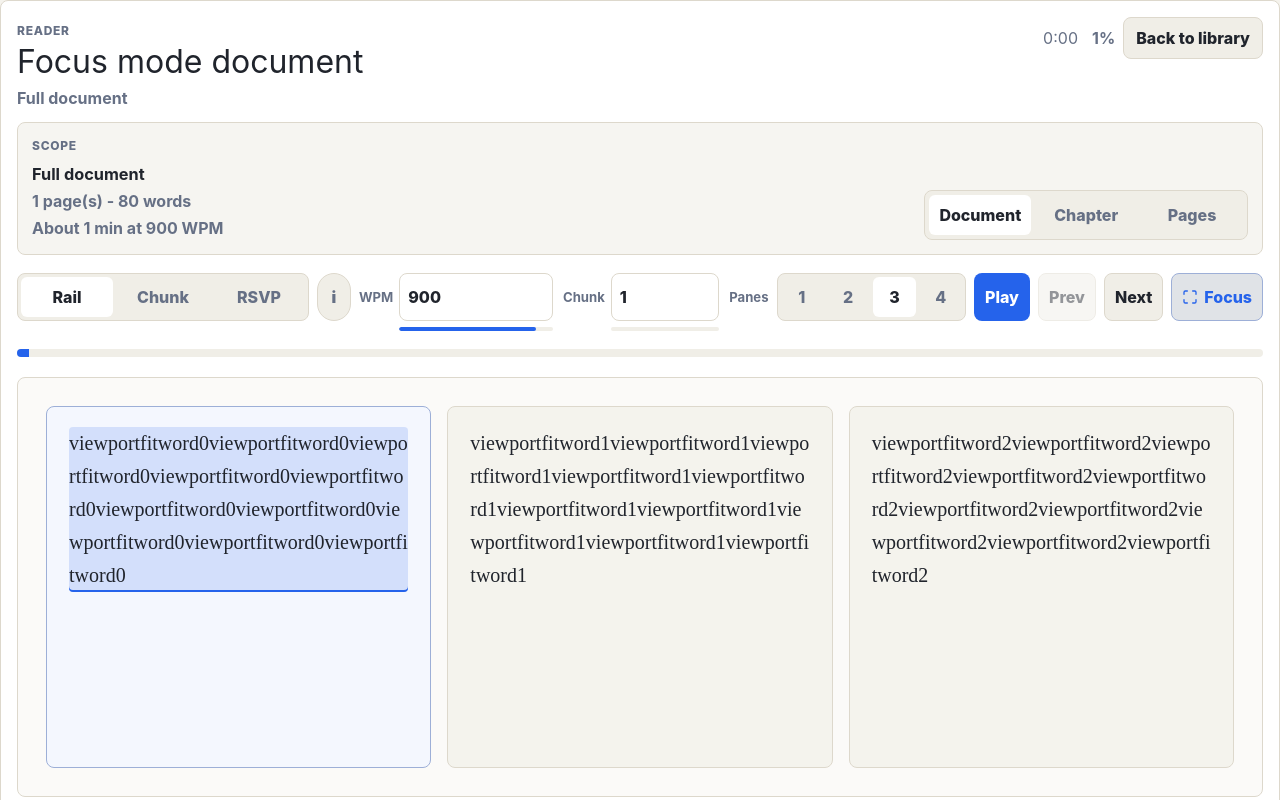
Test: ReaderRail virtual panes › moves to the next adjacent pane group without skipping hidden words
The width and height of the screenshot is (1280, 800).
Click the button with aria-label "Next pane". click: (1134, 297)
box: [1104,273,1163,321]
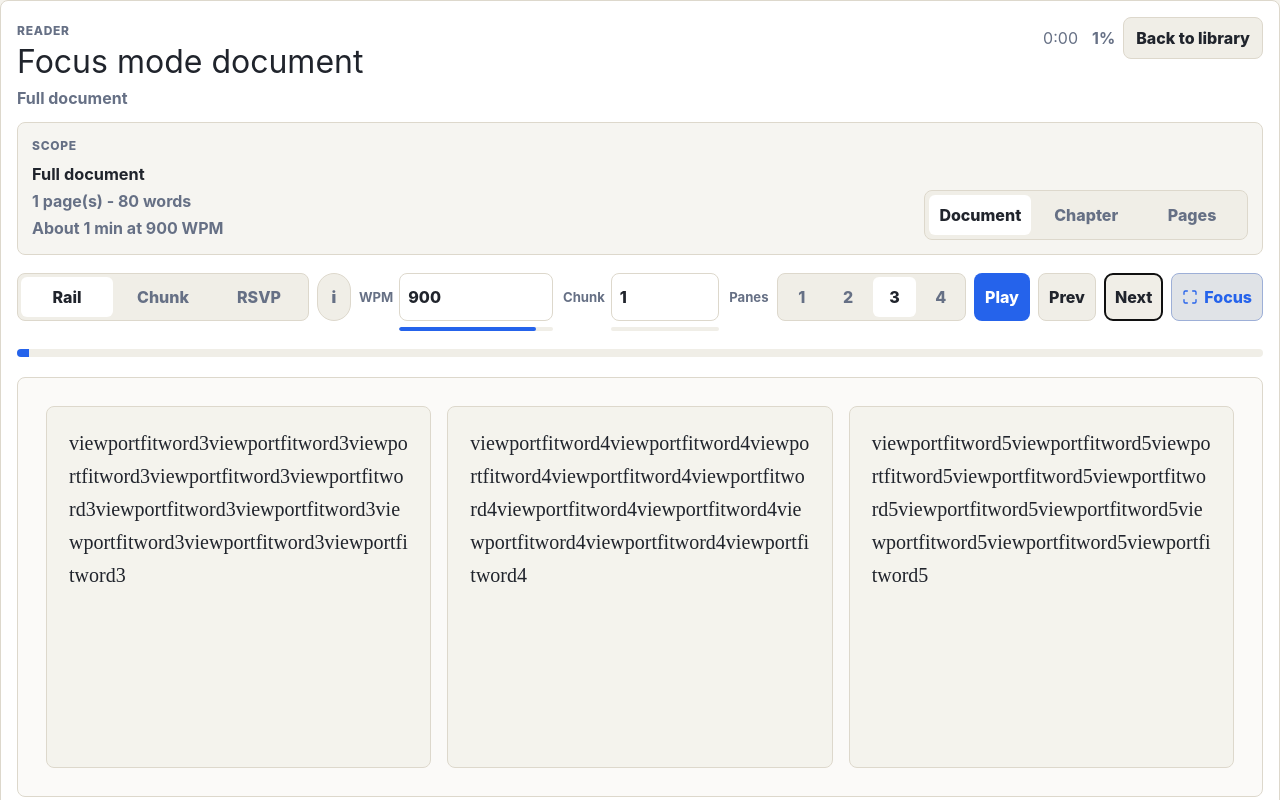
Expected: the button "viewportfitword0" is gone
